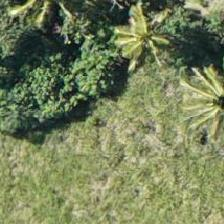coconut_tree: (93, 0, 183, 74)
